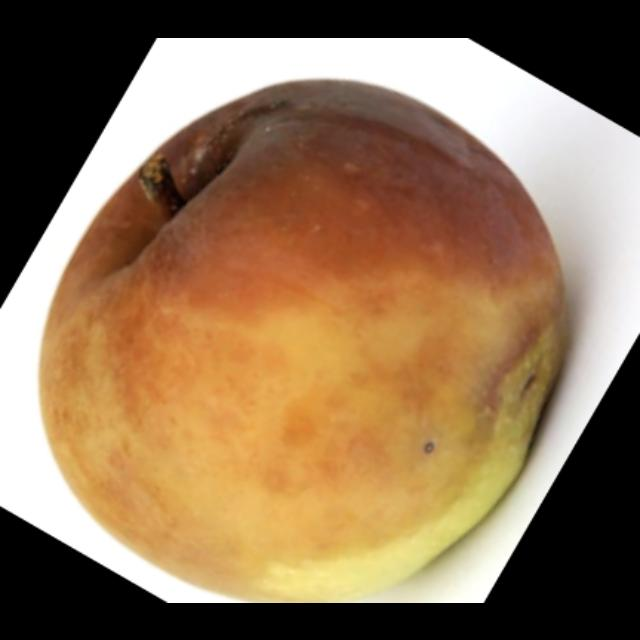Apel Tidak Segar: (32, 70, 576, 602)
